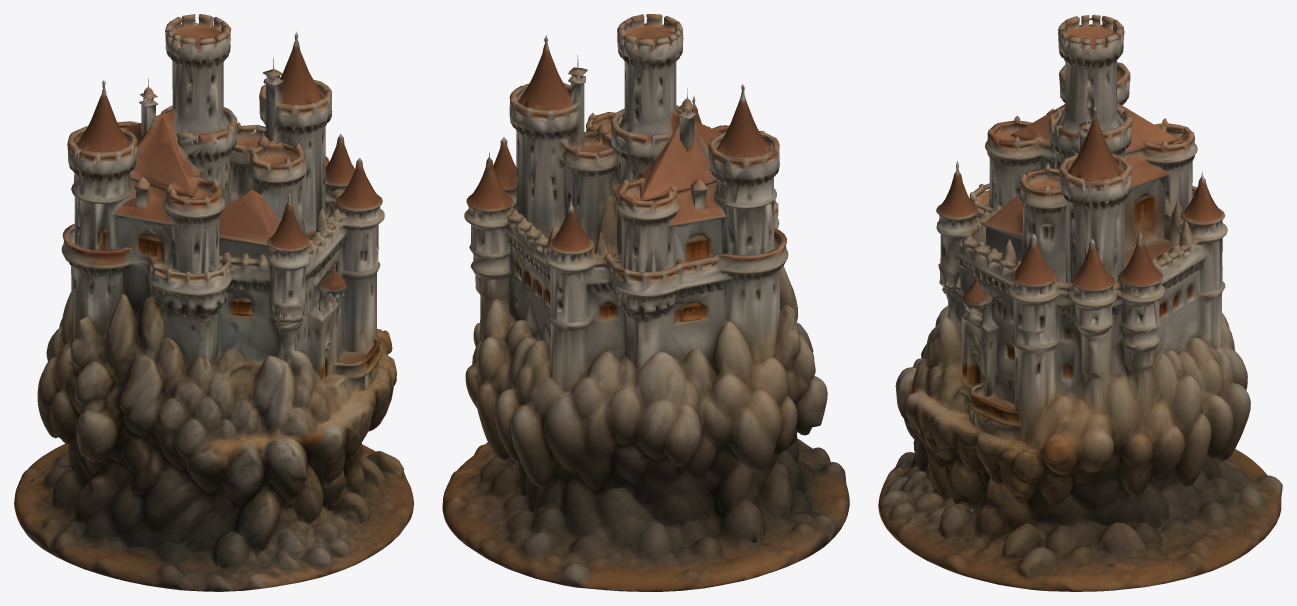
Rendered from castle.glb.
The picture shows the model from 3 angles, left to right: view 1: azimuth 30°, elevation 25°; view 2: azimuth 150°, elevation 25°; view 3: azimuth 270°, elevation 25°; orthographic projection. The views are drawn at different scales.
Visible parts, largest first — view 1: material; view 2: material; view 3: material.
Boxes of the visible parts, x1,y1,x2,y2 form: material: (14, 14, 413, 591); material: (442, 14, 849, 591); material: (878, 14, 1282, 591).
Bounding box in the file's own units: 0.7213 × 0.9453 × 0.7282.
1 material, 1 textured.
